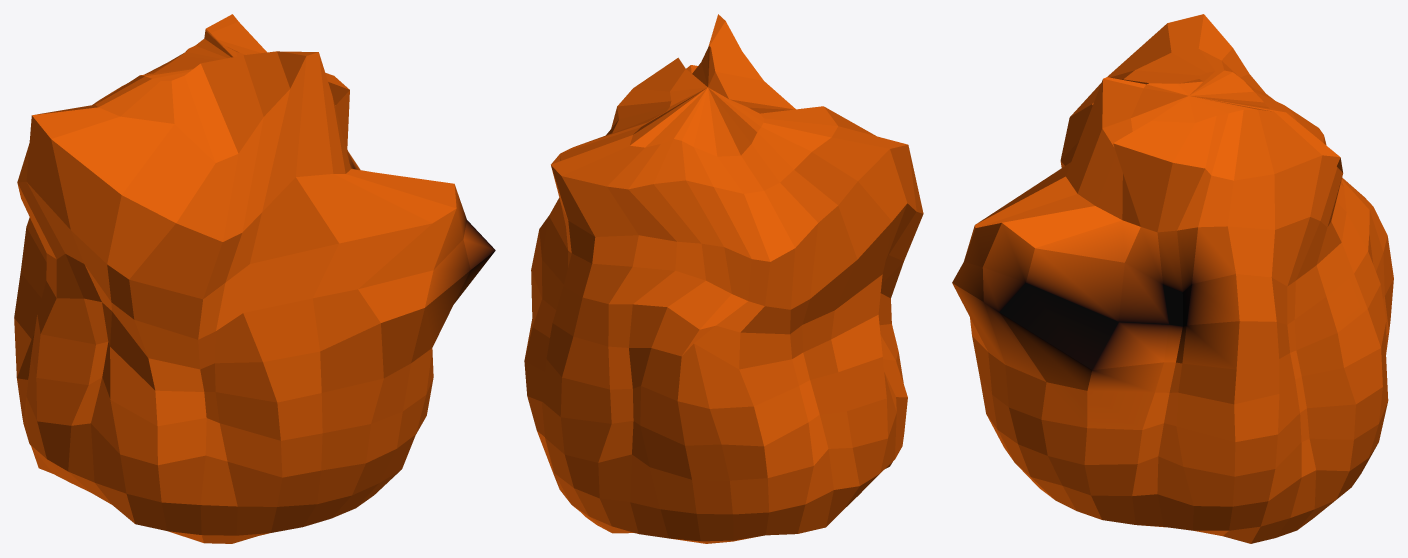
File: demon pig.glb
3 views of the same model, side by side, from view 1: azimuth 30°, elevation 25°; view 2: azimuth 150°, elevation 25°; view 3: azimuth 270°, elevation 25° (orthographic). The views are drawn at different scales.
Parts seen in each view (by area): view 1: blob; view 2: blob; view 3: blob.
Boxes of the visible parts, x1=… form: blob: x1=14, y1=14, x2=495, y2=543; blob: x1=524, y1=14, x2=923, y2=543; blob: x1=952, y1=14, x2=1393, y2=543.
Size of the model in its own units: 2 by 2.37 by 2.18.
